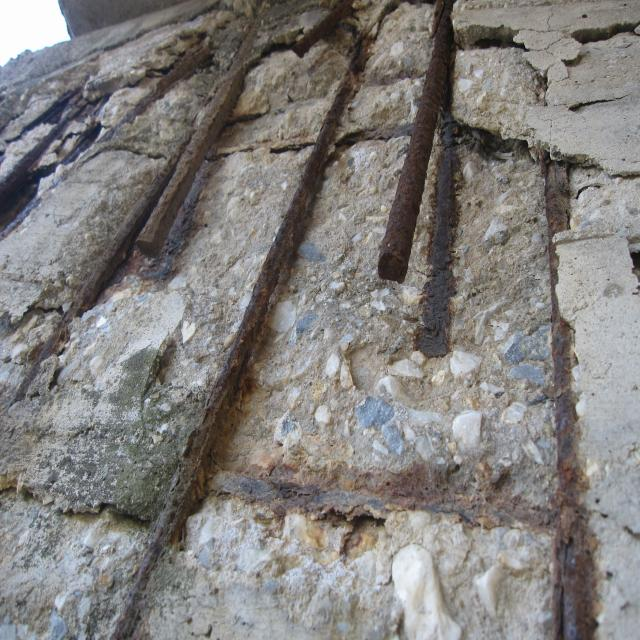corrosion: (4, 1, 637, 640)
